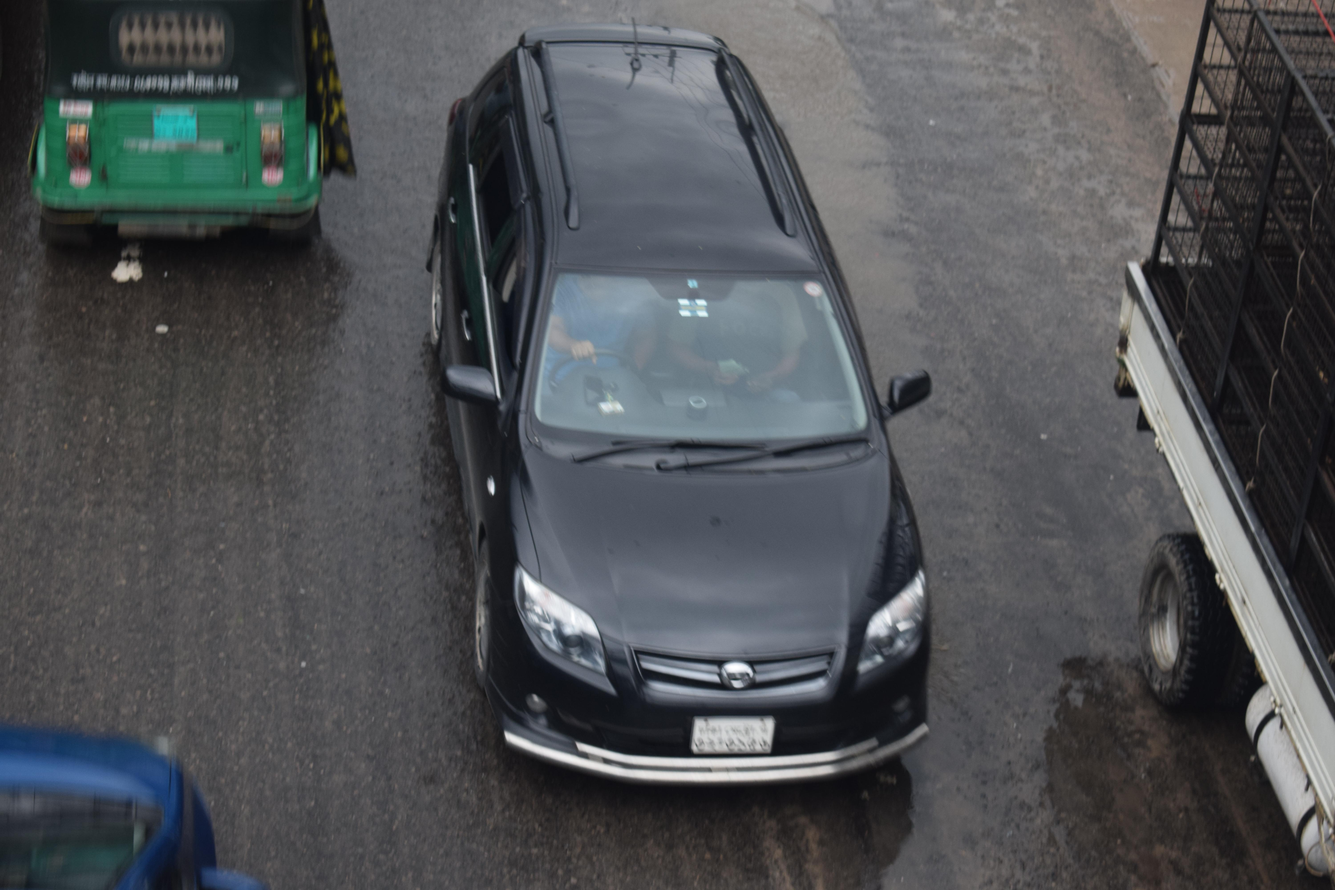Car: (353, 14, 1008, 847)
